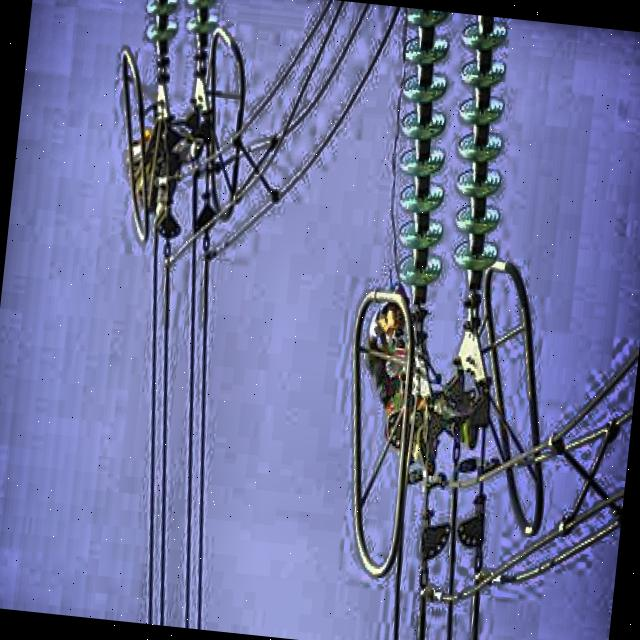helmet: (373, 275, 417, 336)
